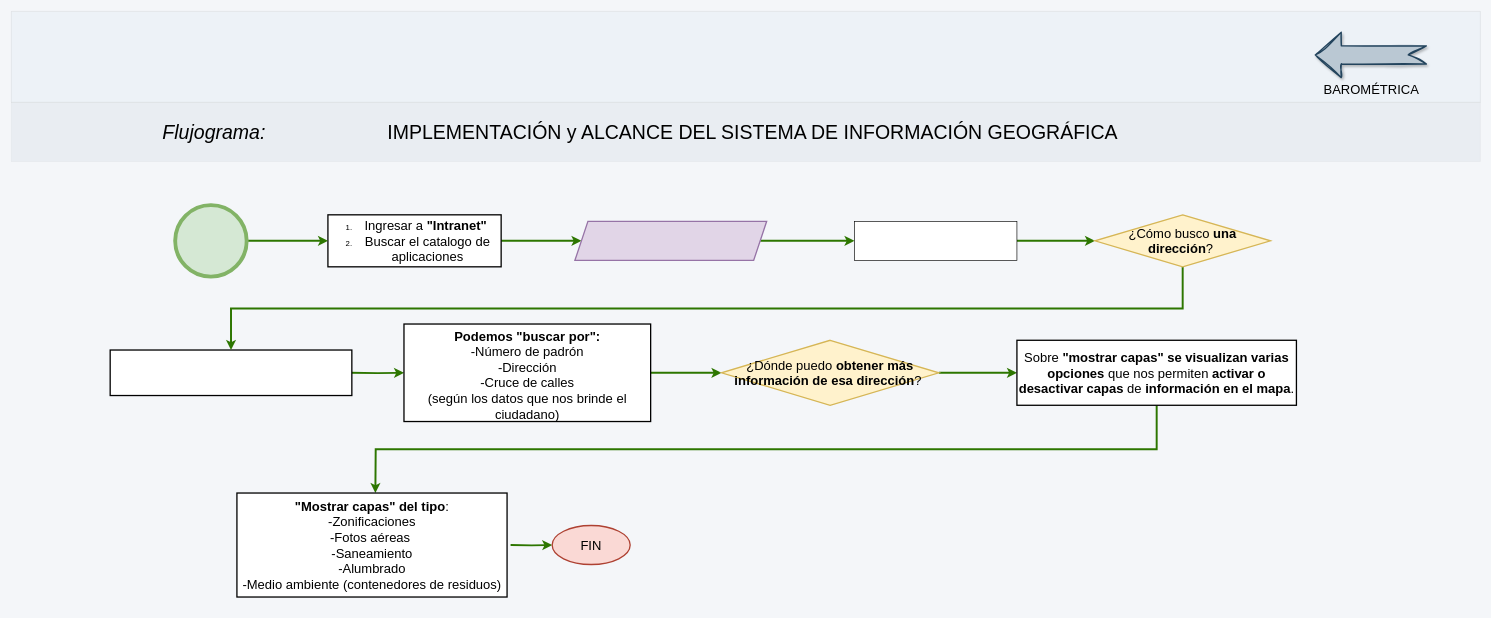
Some shapes in this 1491 by 618 pixel diagram are drawn without their labels. Each missing label, with the centre of its shape:
Cliquear "Montevimap": point 935,240
Desde la barra de búsqueda "buscar por" rastremos la dirección del ciudadano: point 230,372
INGRESAR AL SISTEMA: SIG: point 670,240
INICIO: point 210,240
